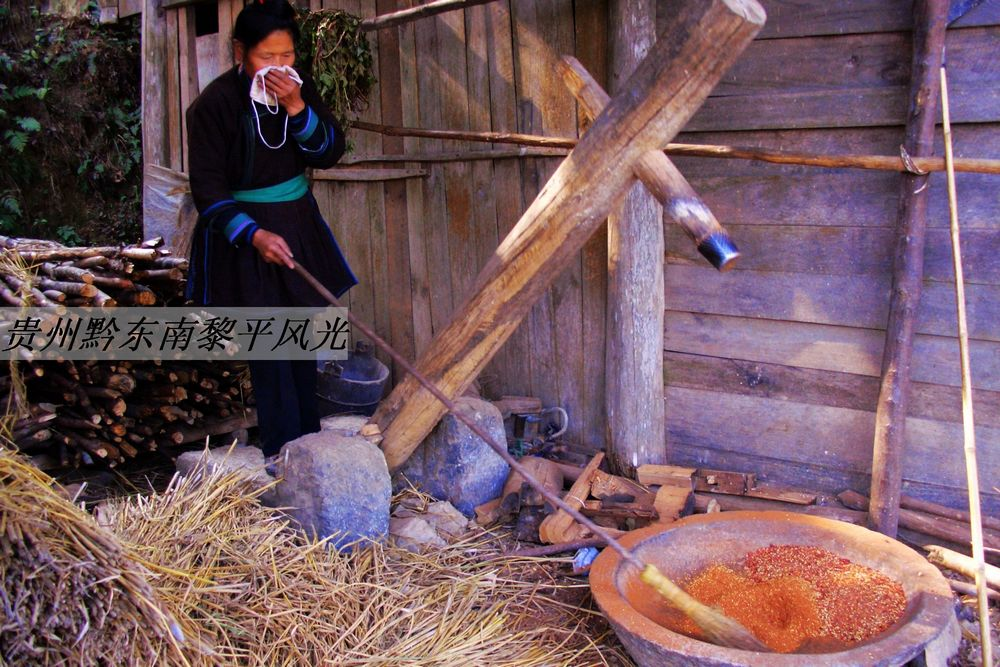face_mask: (248, 34, 295, 85)
